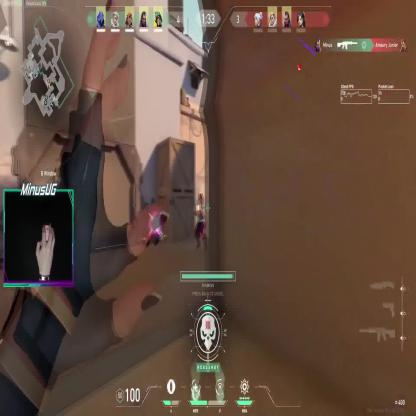enemy: (191, 193, 208, 248)
enemy_head: (198, 193, 203, 205)
